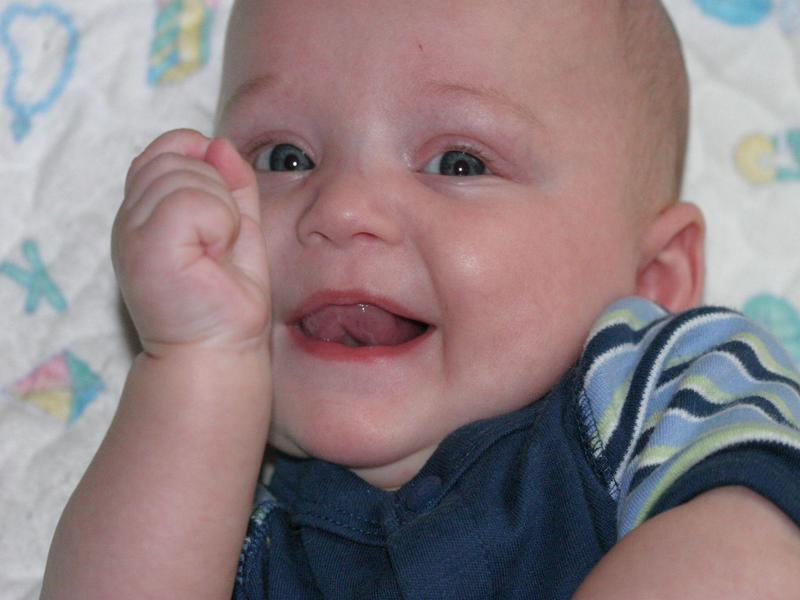person: (55, 1, 800, 598)
